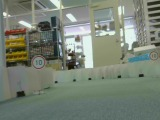speed_10: (29, 54, 48, 70), (148, 50, 159, 61)
